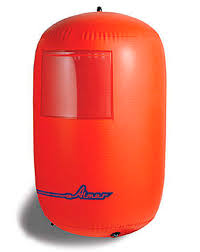buoy: (34, 11, 167, 237)
